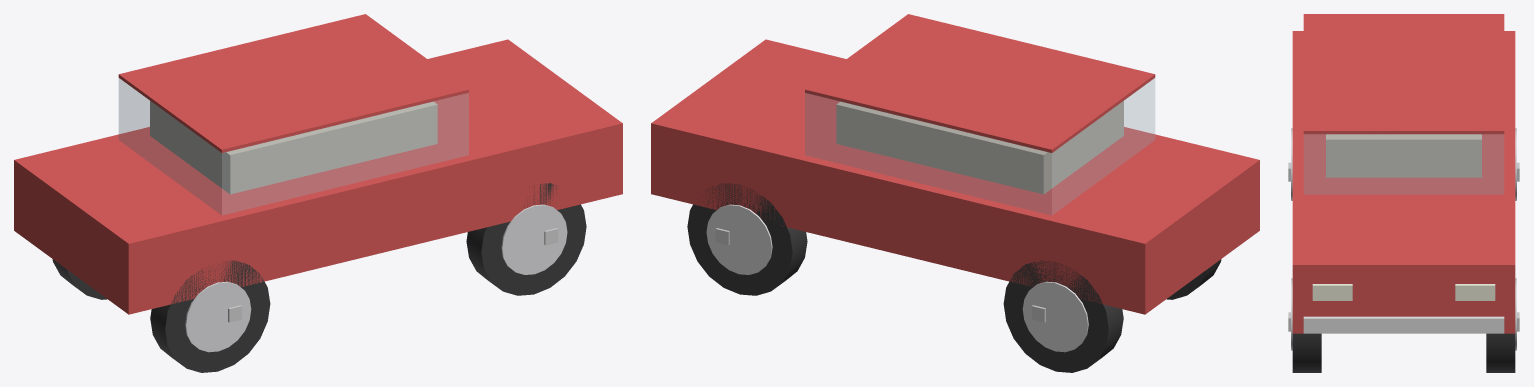
The model's file is de_carModel_hawk.glb.
The picture shows the model from 3 angles, left to right: view 1: azimuth 30°, elevation 25°; view 2: azimuth 150°, elevation 25°; view 3: azimuth 270°, elevation 25°; orthographic projection. The views are drawn at different scales.
Visible parts, largest first — view 1: PlaceholderCar; view 2: PlaceholderCar; view 3: PlaceholderCar.
Boxes of the visible parts, x1,y1,x2,y2 form: PlaceholderCar: (14,14,622,372); PlaceholderCar: (651,14,1259,372); PlaceholderCar: (1288,14,1519,372).
Bounding box in the file's own units: 4.64 × 1.91 × 1.92.
